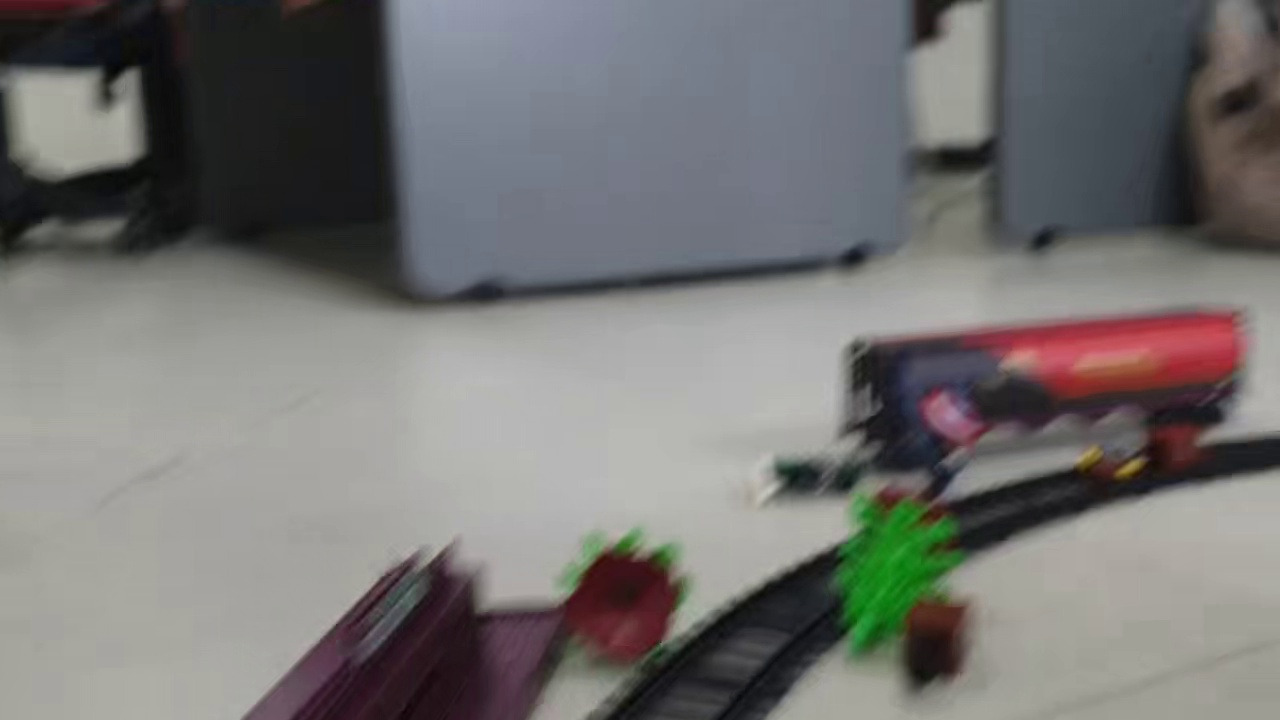box: (903, 597, 974, 691), (1143, 418, 1196, 461)
people: (900, 350, 986, 496), (750, 454, 869, 506), (1071, 444, 1171, 487)
tree: (831, 490, 962, 662), (557, 524, 694, 667)
